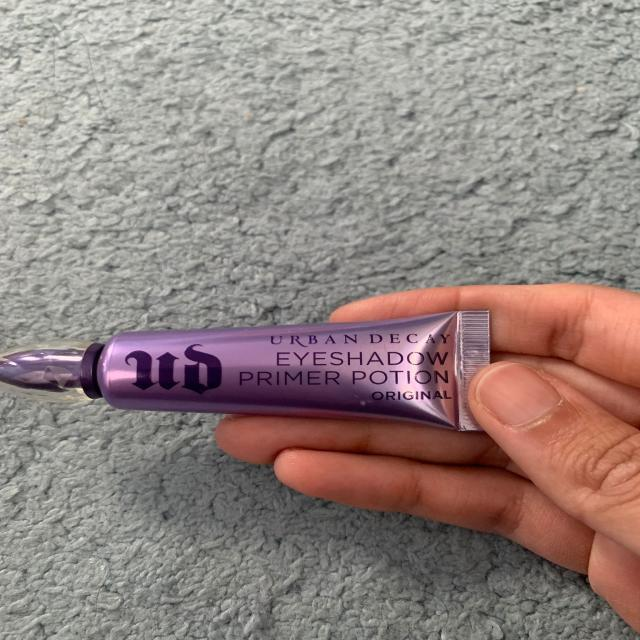primer: (0, 297, 503, 439)
